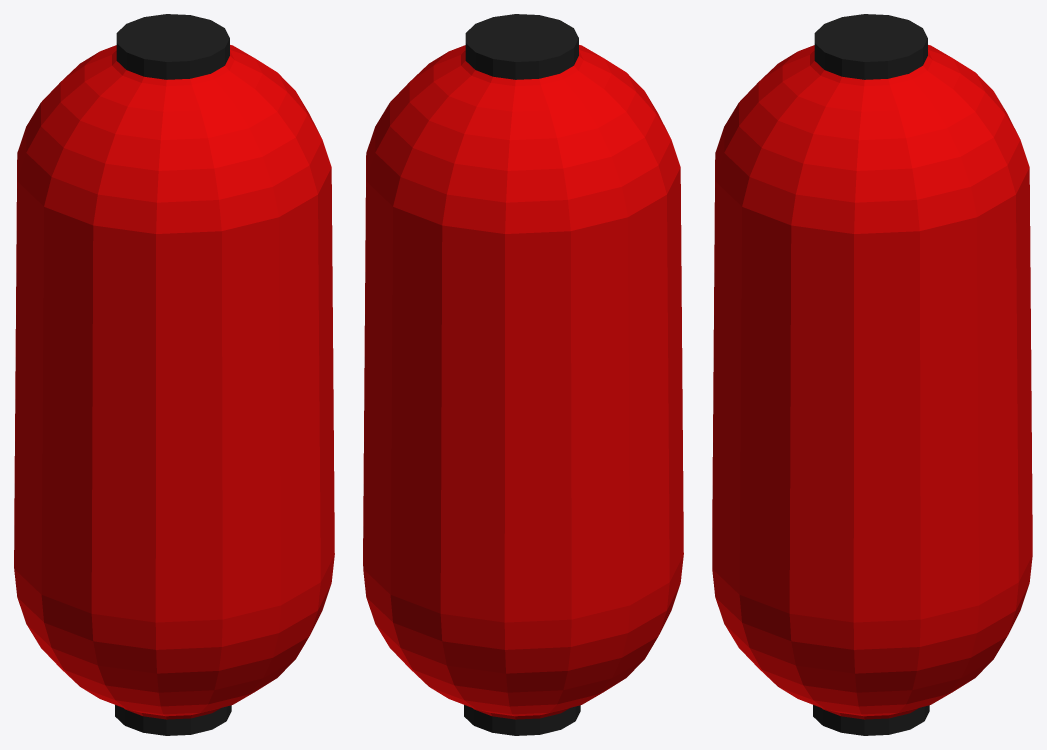
Rendered from BigLantern.glb.
3 renders of one model, left to right at view 1: azimuth 30°, elevation 25°; view 2: azimuth 150°, elevation 25°; view 3: azimuth 270°, elevation 25°, orthographic.
Parts seen in each view (by area): view 1: Lantern_1; view 2: Lantern_1; view 3: Lantern_1.
Part boxes in pixels (box(x1,y1,x2,y2)): Lantern_1: box(14, 14, 334, 735); Lantern_1: box(363, 14, 683, 735); Lantern_1: box(712, 14, 1032, 735).
Size of the model in its own units: 0.2657 by 0.6122 by 0.2643.
Materials: 1 (1 with a texture image).
